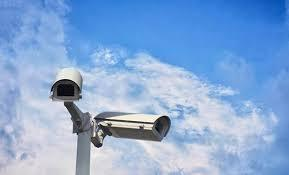tutu: (96, 107, 173, 145), (50, 63, 87, 103)
